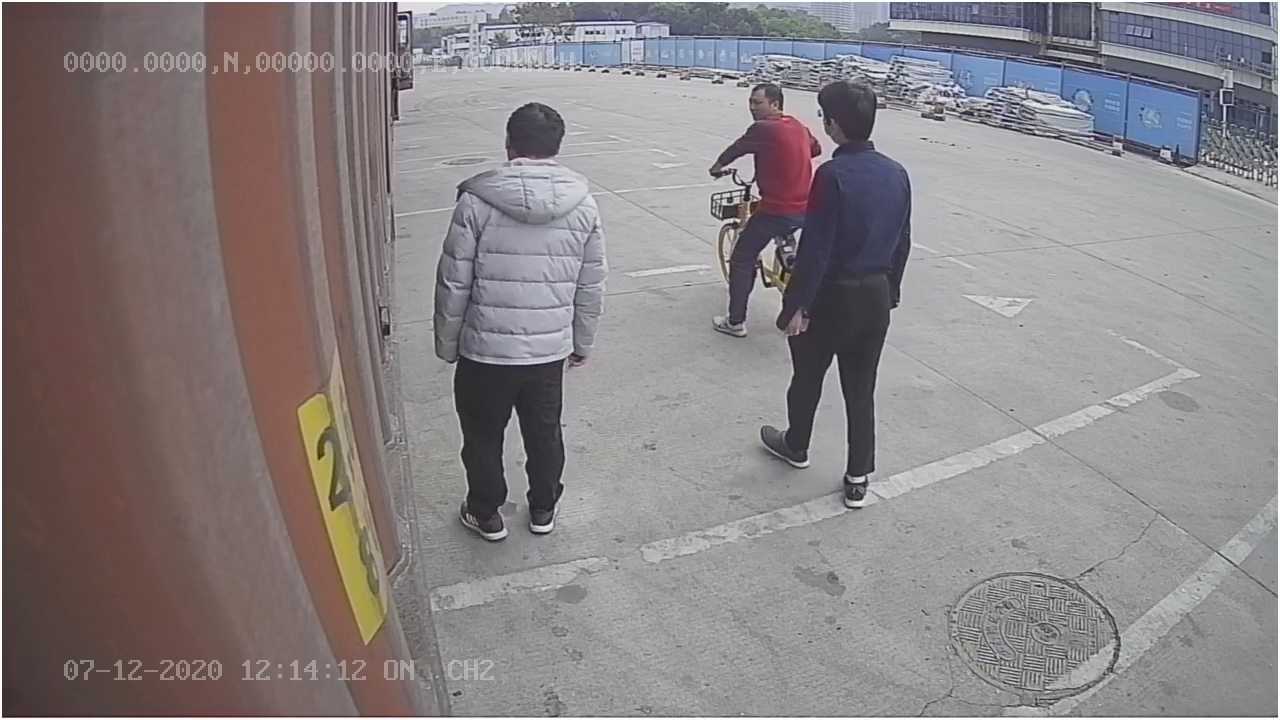person: (431, 95, 609, 544)
